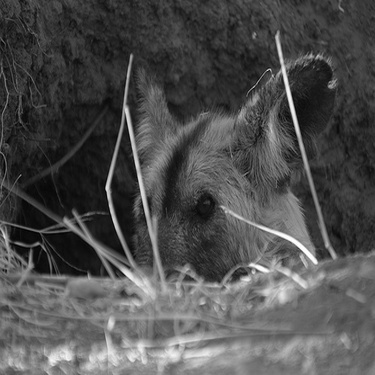dog: (1, 30, 353, 293)
